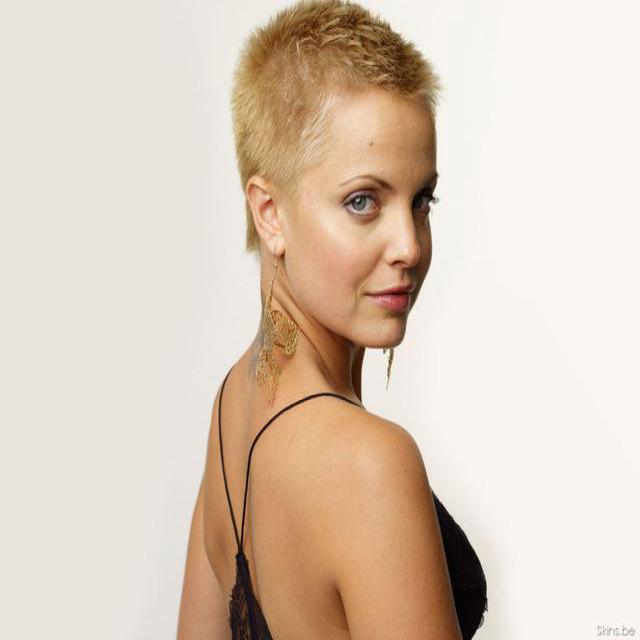no-earmuff: (238, 164, 303, 275)
